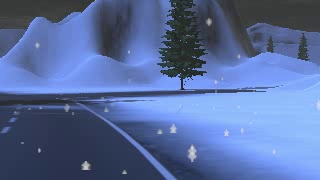Lane: (0, 88, 234, 179)
